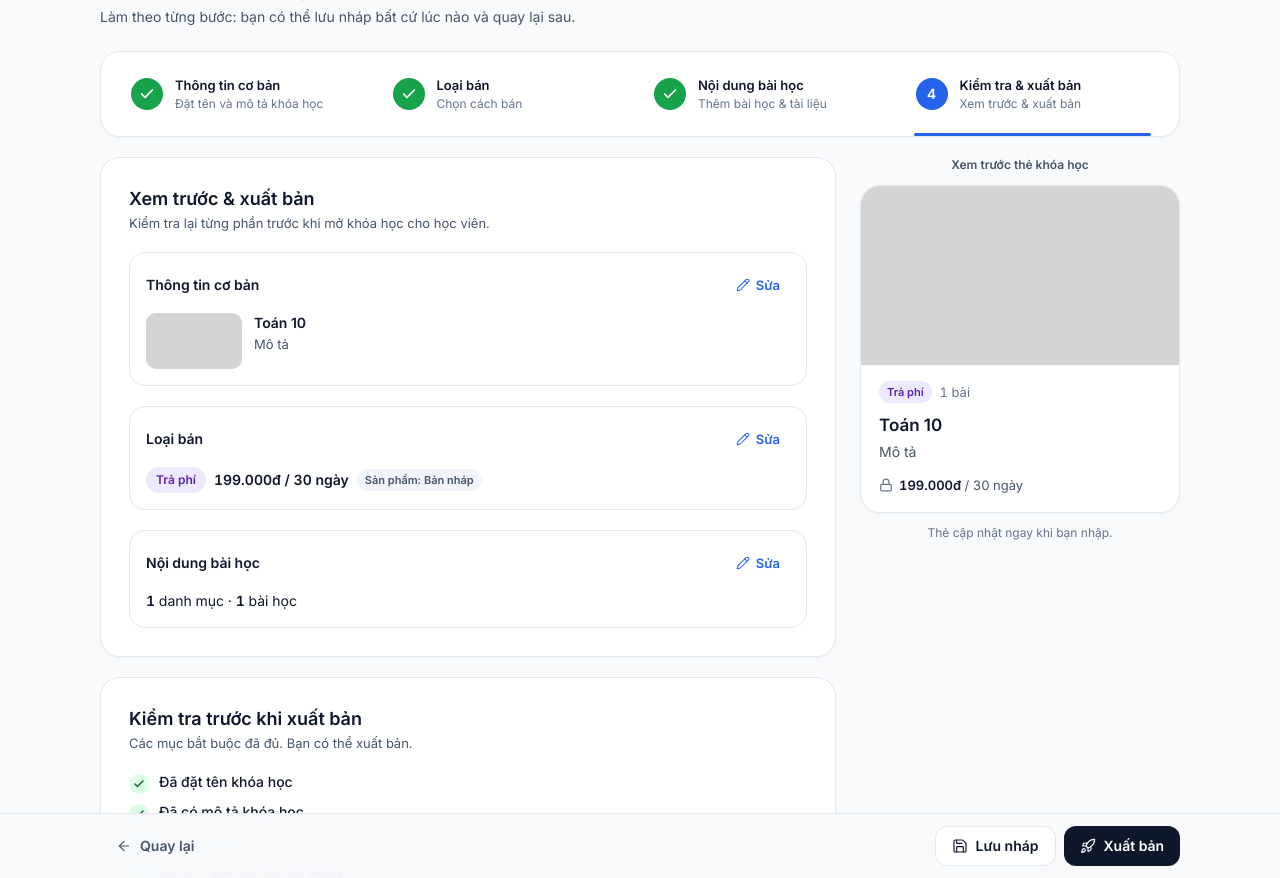
StudioCourseWizard - review and publish › tells the user what remains when the product cannot be published (no STORE:PUBLISH)
(page scrolled)
Check: the text "199.000đ / 30 ngày" is shown, box [214,470,349,490]
What coordinates should you click on to do the following:
click the button "Xuất bản"
I would click on:
 (1122, 846)
Its box is [1064,826,1180,866].
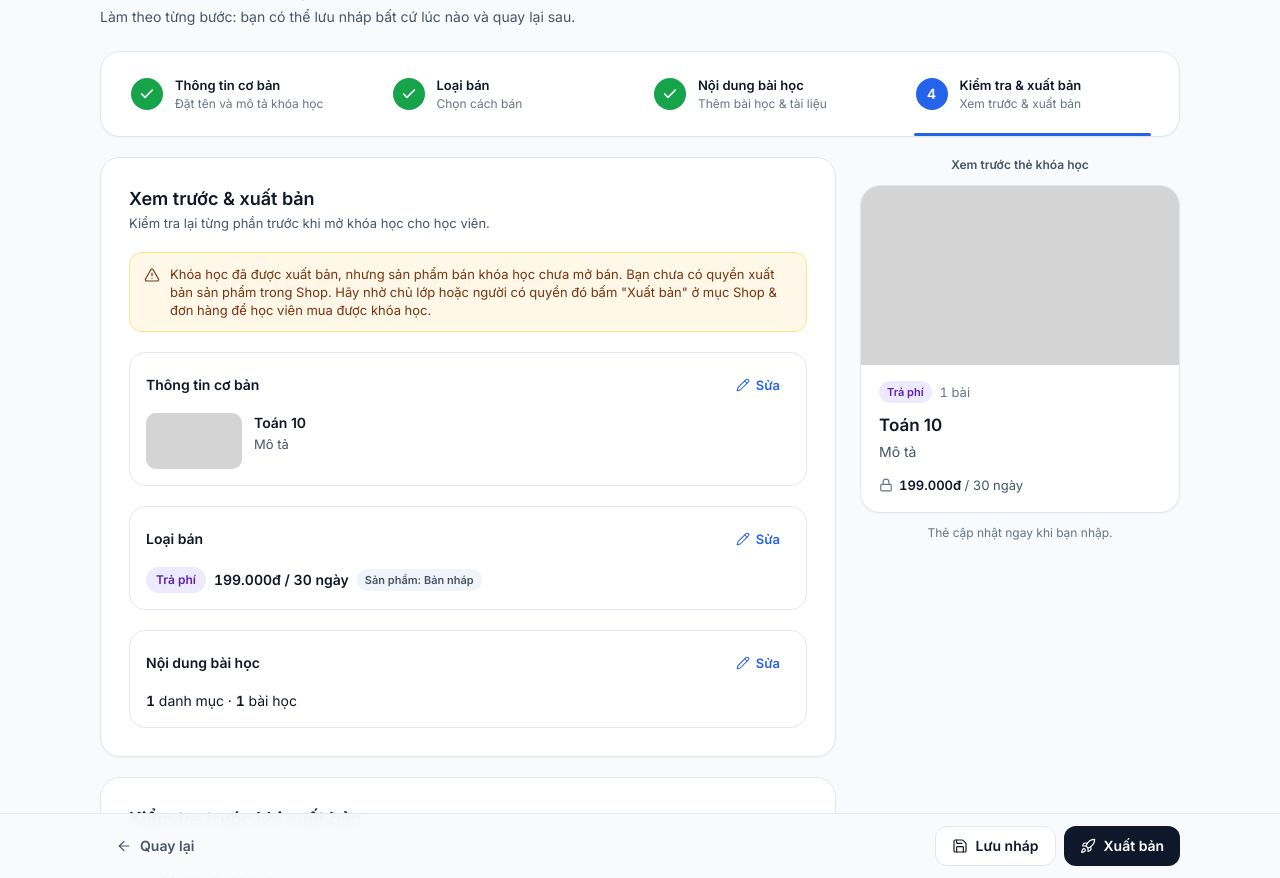
Check: the text "sản phẩm bán khóa học chưa mở bán" is shown, box [170,266,777,318]
